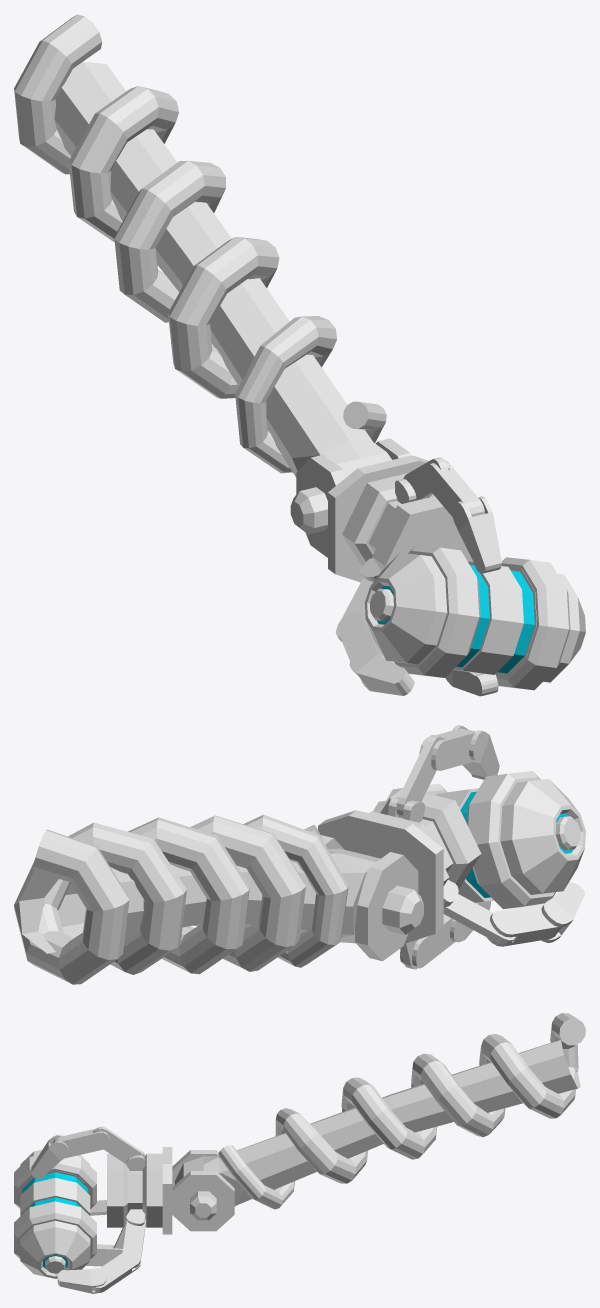
File: bot.Arm.fbx
3 views of the same model, one above another, from view 1: azimuth 30°, elevation 25°; view 2: azimuth 150°, elevation 25°; view 3: azimuth 270°, elevation 25° (orthographic). The views are drawn at different scales.
Visible parts, largest first — view 1: bot.Arm, bot.Batery; view 2: bot.Arm, bot.Batery; view 3: bot.Arm, bot.Batery.
Part boxes in pixels (left/top/right/bottom): bot.Arm: left=14, top=14, right=501, bottom=696; bot.Batery: left=364, top=545, right=585, bottom=690; bot.Arm: left=14, top=725, right=585, bottom=984; bot.Batery: left=373, top=771, right=585, bottom=908; bot.Arm: left=31, top=1013, right=585, bottom=1293; bot.Batery: left=14, top=1149, right=96, bottom=1278.
Bounding box in the file's own units: 72.14 × 117 × 243.
